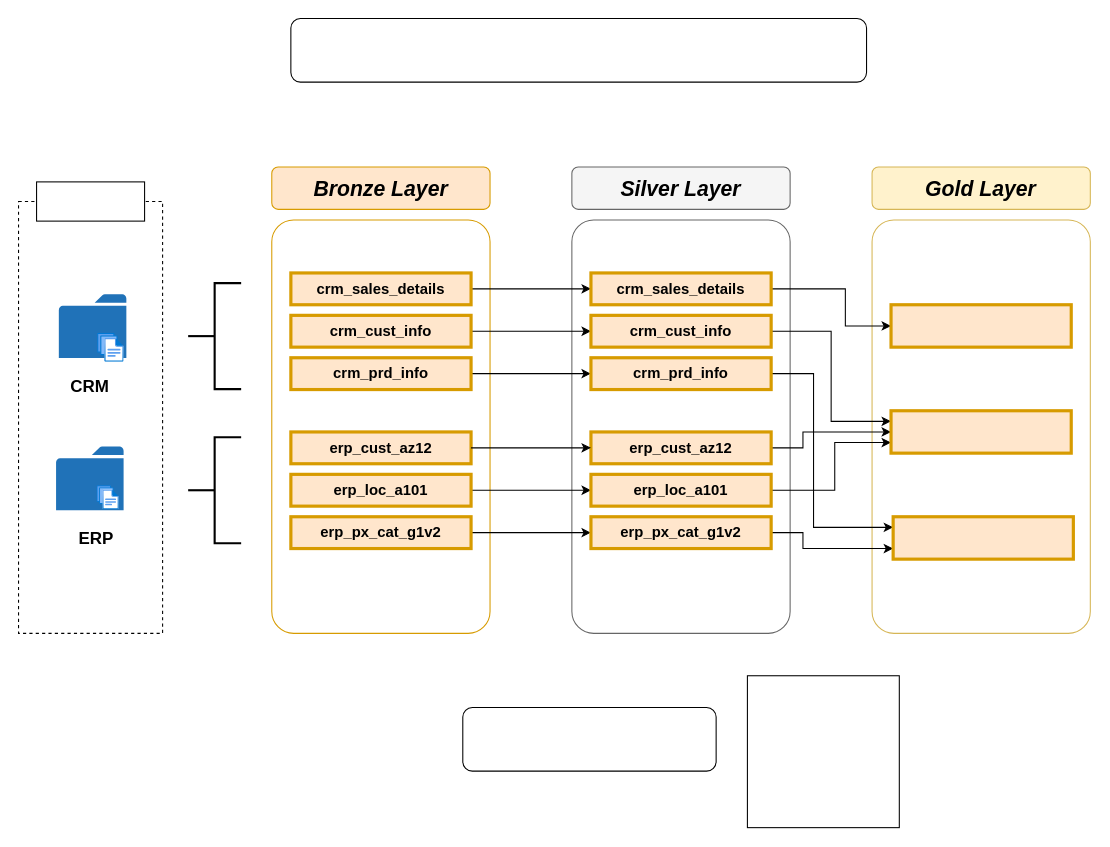
The diagram is 1110 pixels wide and 847 high, and some of its shapes have lost their labels. Each missing label, with the box of its shape:
Data Flow: (290, 17, 867, 82)
Data Lineage: (462, 706, 716, 771)
dim_customrs: (889, 409, 1072, 454)
dim_products: (891, 515, 1074, 560)
fact_sales: (889, 303, 1072, 348)
purpose : easy find the issues thanks to data lineage (flow): (746, 675, 899, 828)
Sources: (36, 181, 145, 221)
